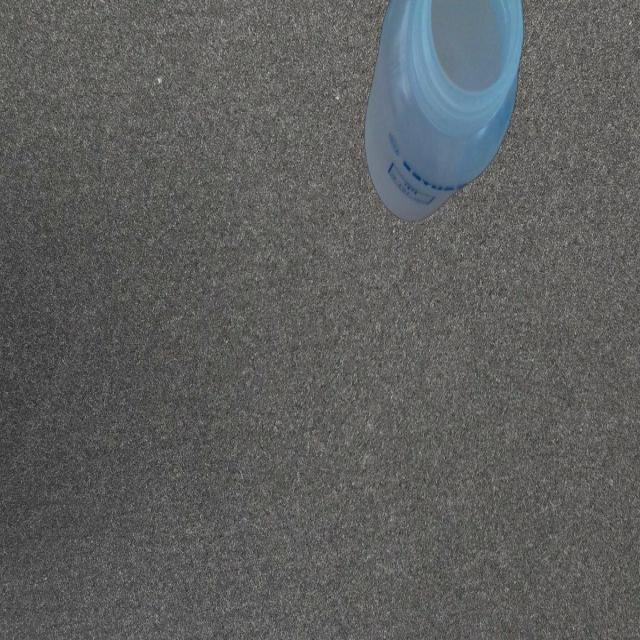bottle: (362, 0, 526, 228)
